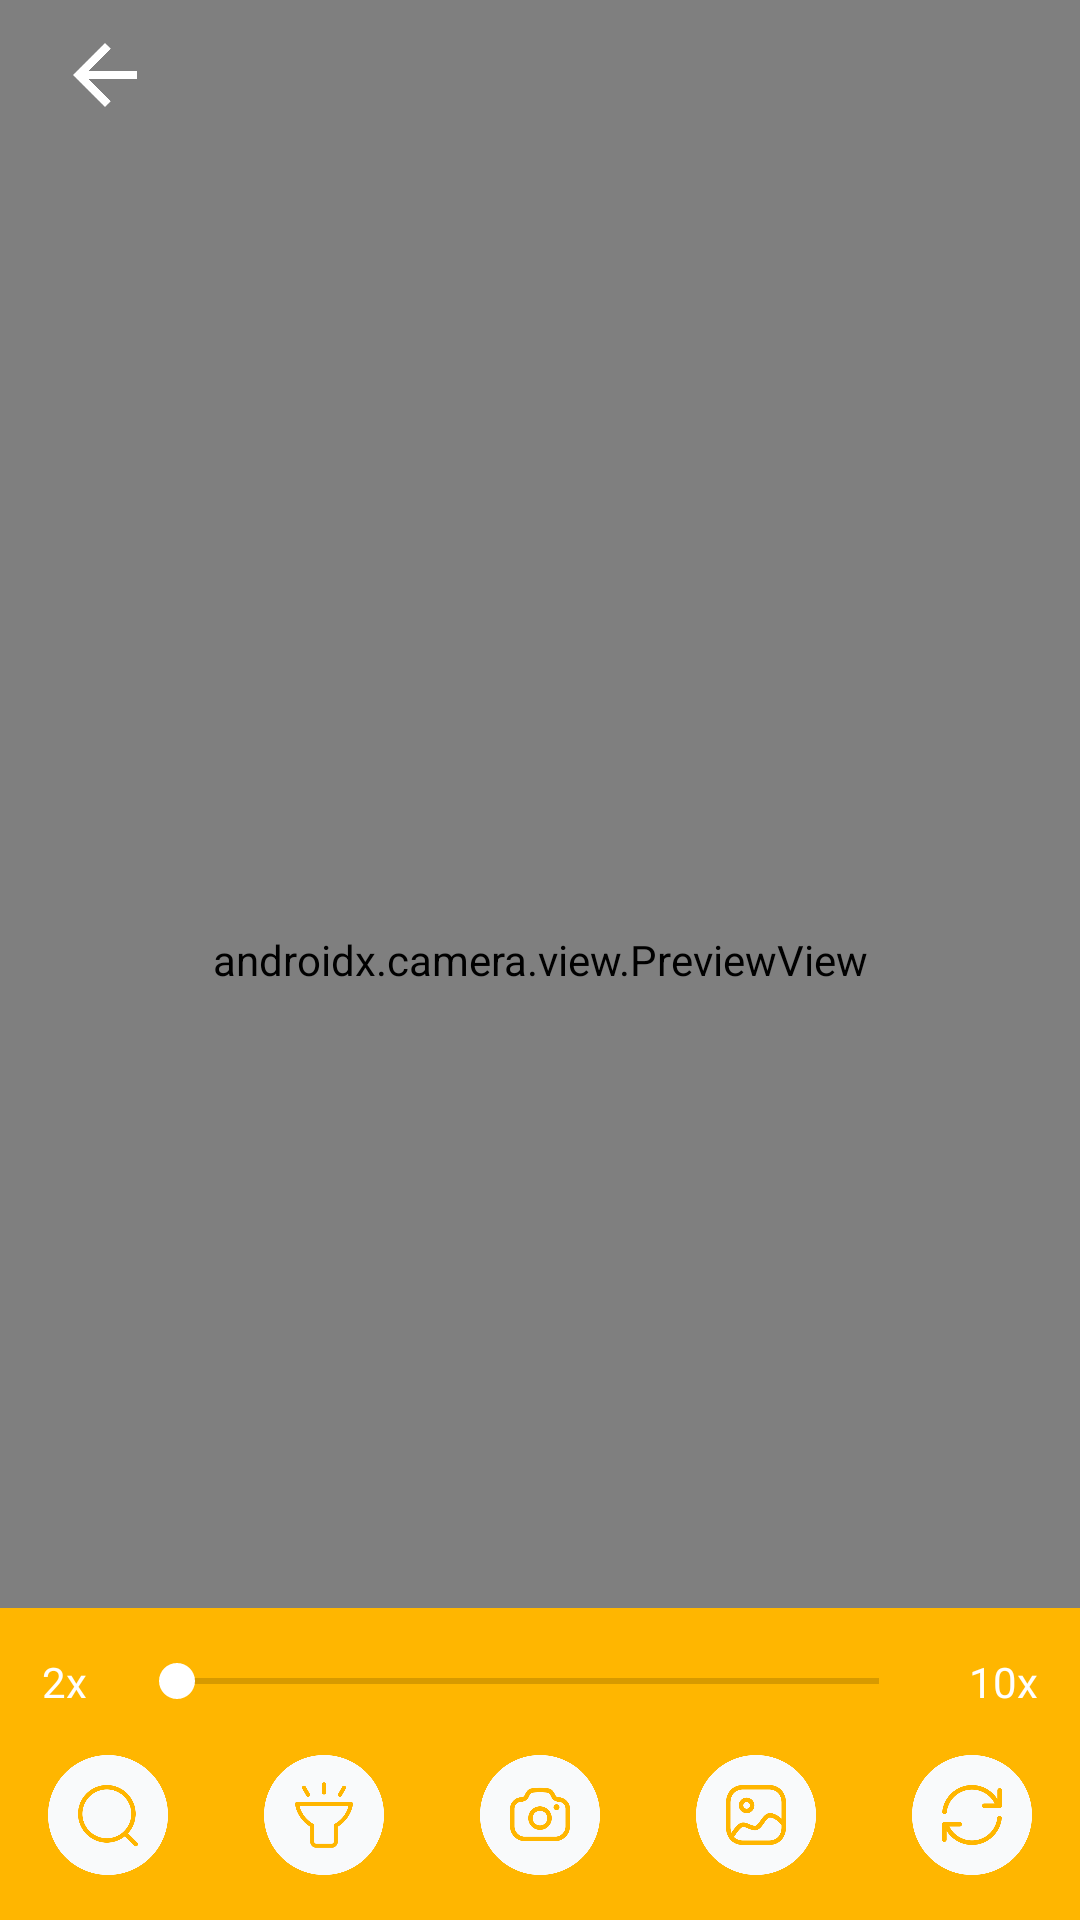

Icons on this 1080px×1920px Android screen, each with the point to tap as [x,y]:
back: [105,75]
flash: [324,1815]
gallery: [756,1815]
rotate: [972,1815]
zoom: [108,1815]
